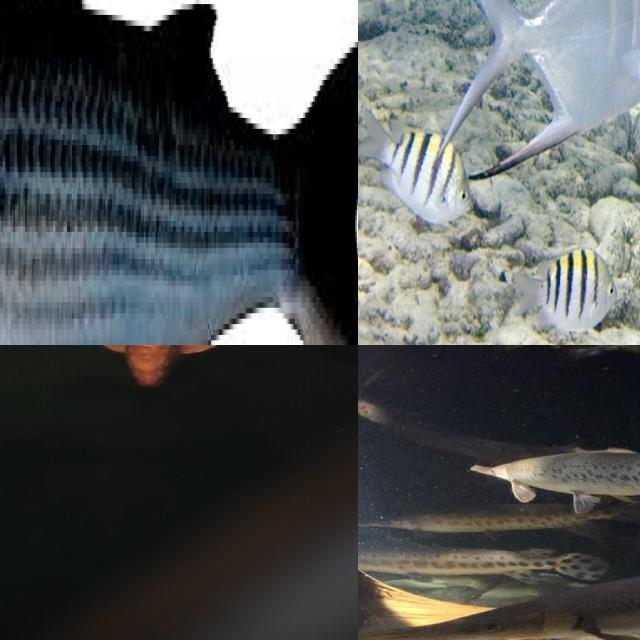fish: (0, 0, 358, 345), (447, 0, 640, 171), (463, 443, 640, 511)
